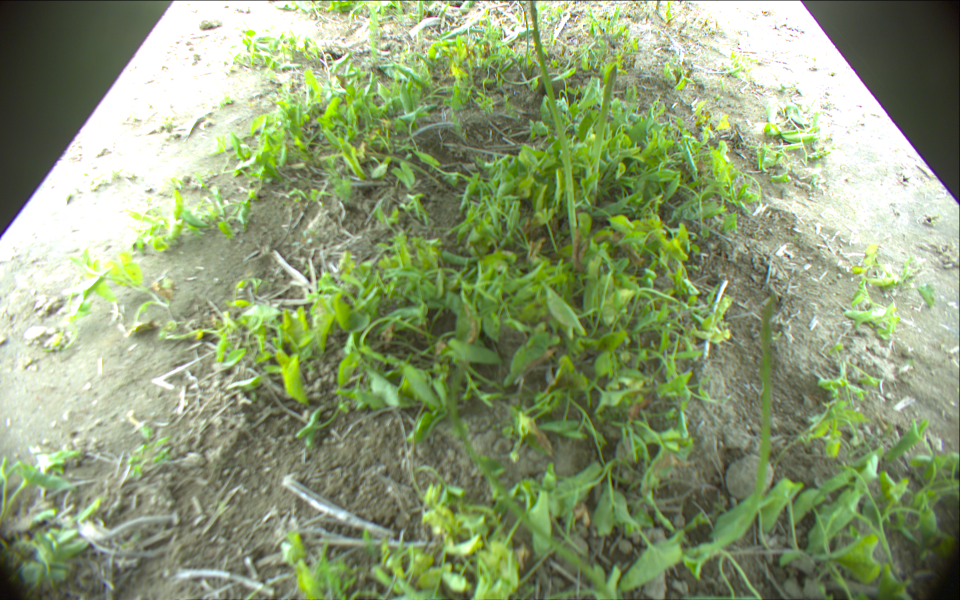aspa: (449, 361, 615, 600), (726, 295, 779, 543), (530, 1, 579, 239), (589, 64, 620, 197), (516, 1, 530, 62)
